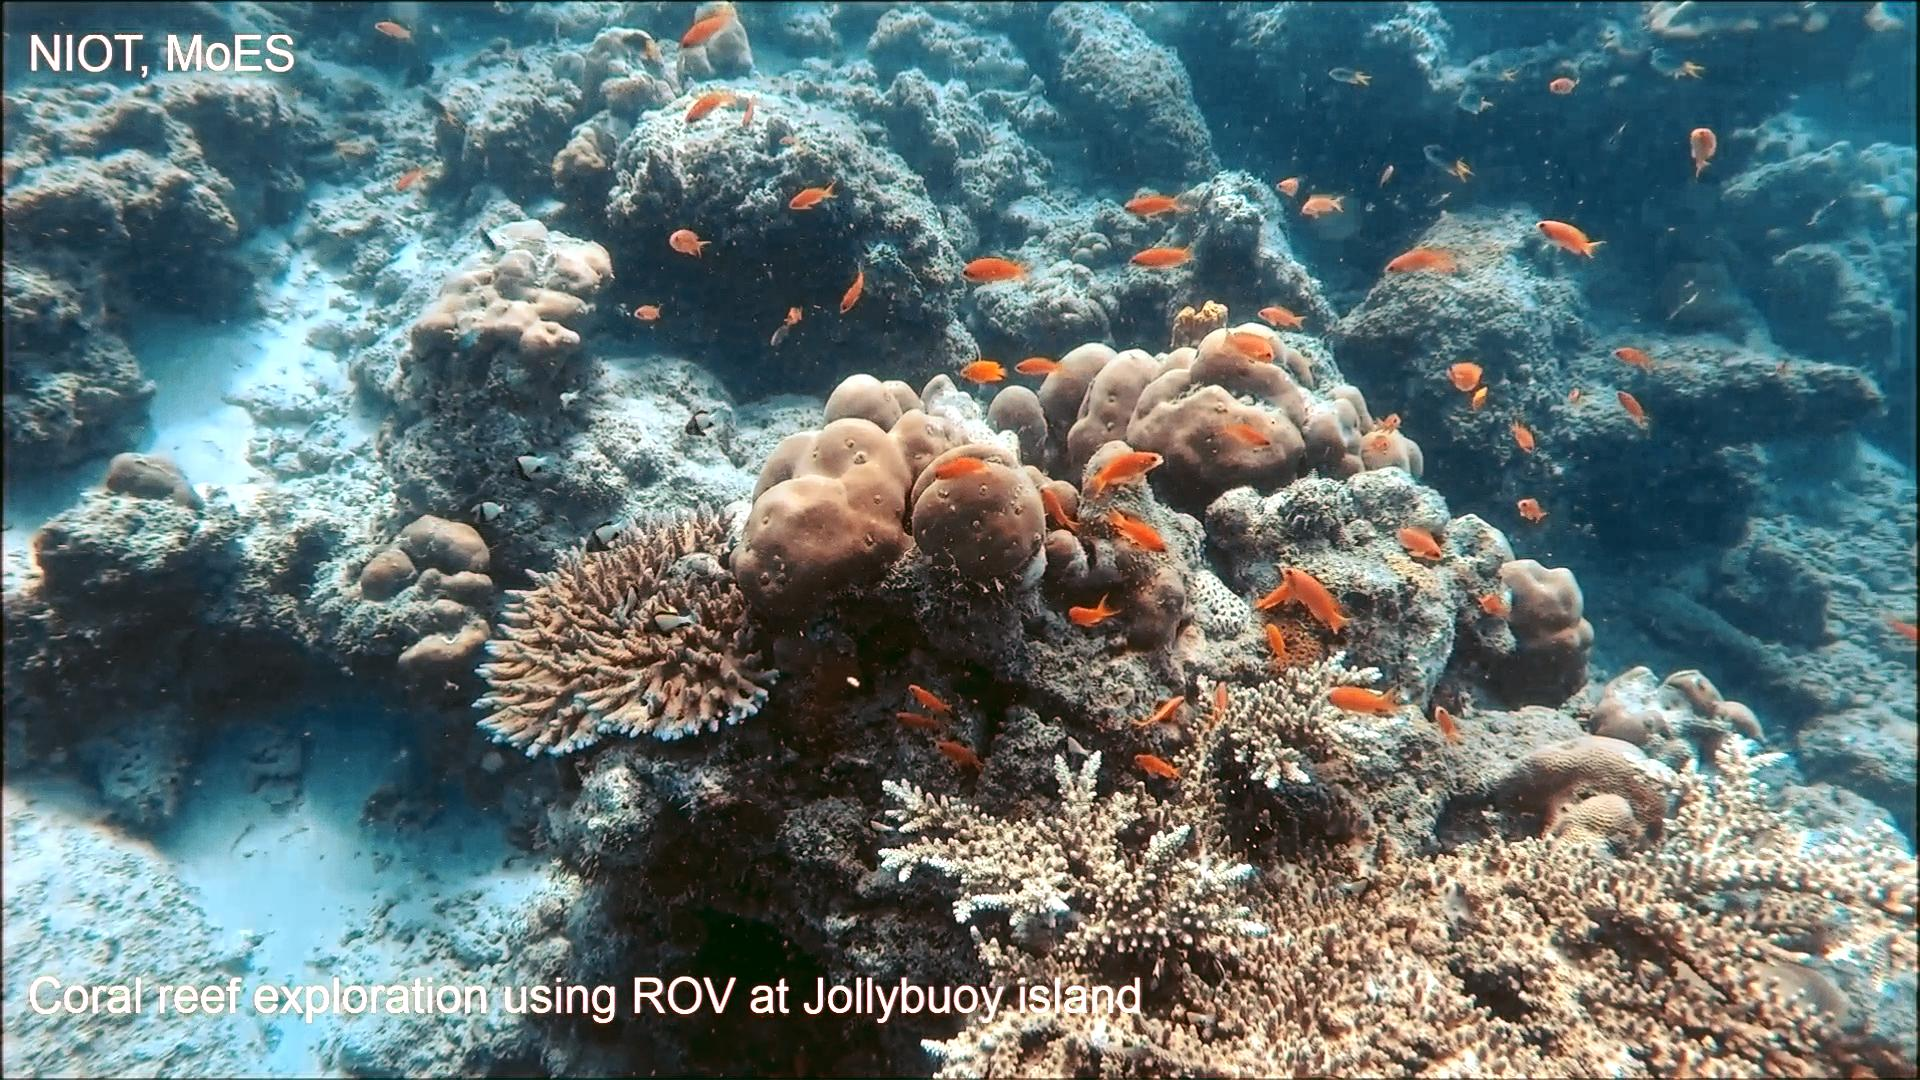Porites-Porites pukoensis: (723, 363, 1050, 628), (1015, 320, 1429, 506)
